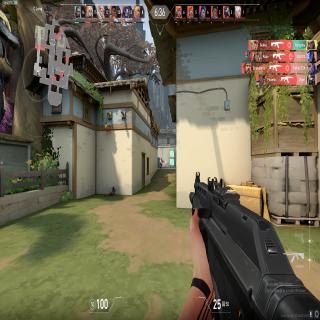ENEMY-BODY: (160, 157, 162, 169)
ENEMY-HEAD: (161, 158, 162, 161)
